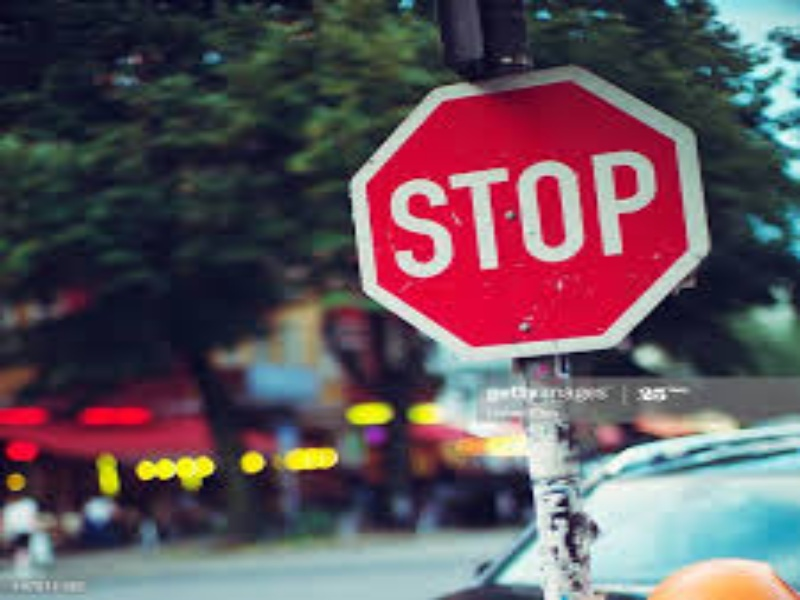Stop_Sign: (352, 69, 700, 357)
